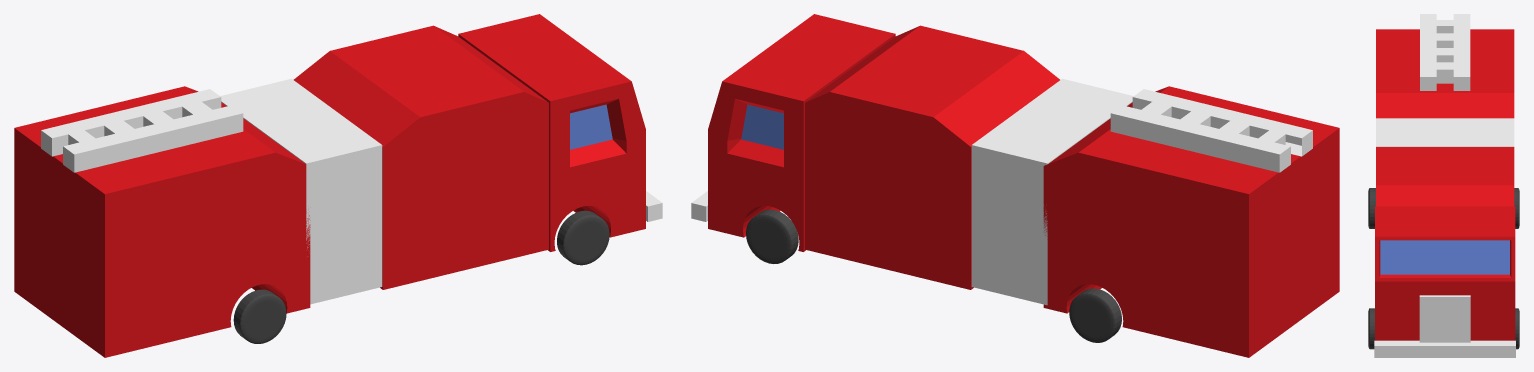
The model's file is firetruck.fbx.
The picture shows the model from 3 angles, left to right: view 1: azimuth 30°, elevation 25°; view 2: azimuth 150°, elevation 25°; view 3: azimuth 270°, elevation 25°; orthographic projection. The views are drawn at different scales.
Parts seen in each view (by area): view 1: Cube.004, Cube.002, Cube.001, Cube.003, Cube.005, Cylinder.001, Cylinder.002; view 2: Cube.004, Cube.002, Cube.001, Cube.003, Cube.005, Cylinder.003, Cylinder; view 3: Cube.001, Cube.004, Cube.002, Cube.003, Cube.005, Cube.006, Cube, Cylinder.002, Cylinder.001, Cylinder.003, Cylinder.
Part boxes in pixels (x1,y1,x2,y2): Cube.004: (14, 86, 310, 357); Cube.002: (293, 25, 548, 289); Cube.001: (458, 14, 645, 251); Cube.003: (220, 78, 382, 304); Cube.005: (41, 89, 243, 172); Cylinder.001: (557, 210, 609, 265); Cylinder.002: (233, 289, 286, 343); Cube.004: (1043, 86, 1339, 357); Cube.002: (805, 25, 1059, 289); Cube.001: (708, 14, 895, 251); Cube.003: (971, 78, 1133, 305); Cube.005: (1110, 89, 1312, 172); Cylinder.003: (1069, 288, 1121, 342); Cylinder: (746, 209, 798, 263); Cube.001: (1375, 206, 1515, 340); Cube.004: (1376, 29, 1514, 118); Cube.002: (1376, 147, 1514, 206); Cube.003: (1376, 118, 1514, 146); Cube.005: (1420, 14, 1470, 90); Cube.006: (1419, 295, 1470, 342); Cube: (1374, 340, 1515, 357); Cylinder.002: (1368, 188, 1375, 228); Cylinder.001: (1368, 308, 1374, 349); Cylinder.003: (1514, 188, 1519, 228); Cylinder: (1515, 308, 1519, 349).
Size of the model in its own units: 1781 by 619 by 548.
